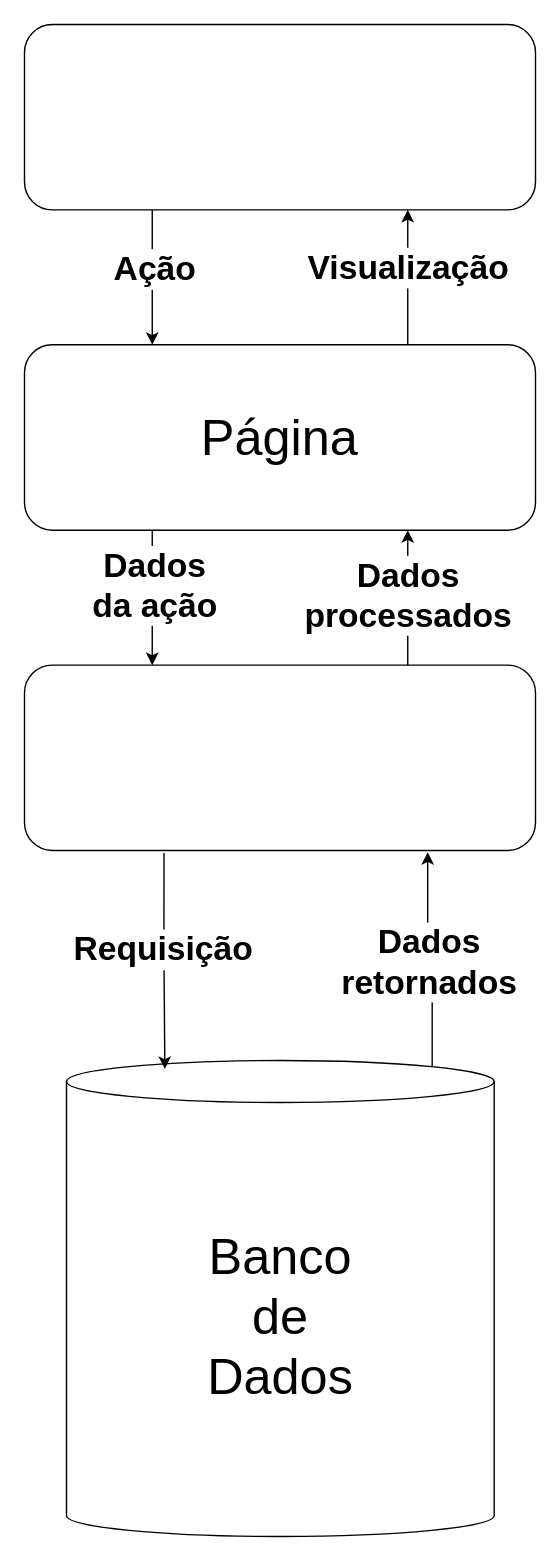
This 560x1561 diagram has some shape labels left out. The shapes that lost their labels are listed below. From the top down, each one's centre as x and y in pixels, then its label:
point (279, 116): Navegador (cliente)
point (279, 757): Lógica
